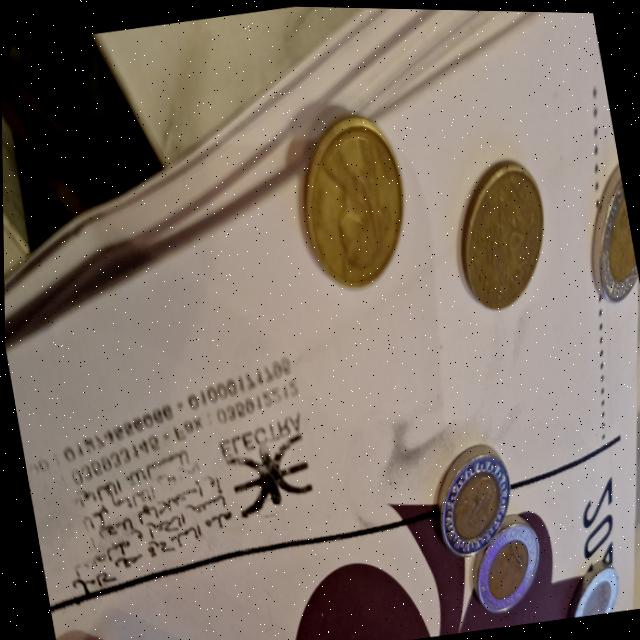Half Pound: (282, 102, 424, 307), (444, 149, 564, 321)
One Pound: (575, 160, 640, 321), (433, 452, 519, 554), (470, 528, 550, 616), (561, 563, 622, 617)
